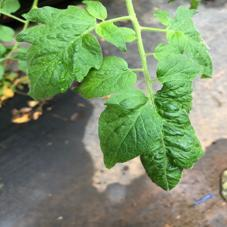Healthy: (17, 2, 104, 105), (139, 98, 204, 191), (97, 96, 161, 171), (78, 53, 139, 102)
